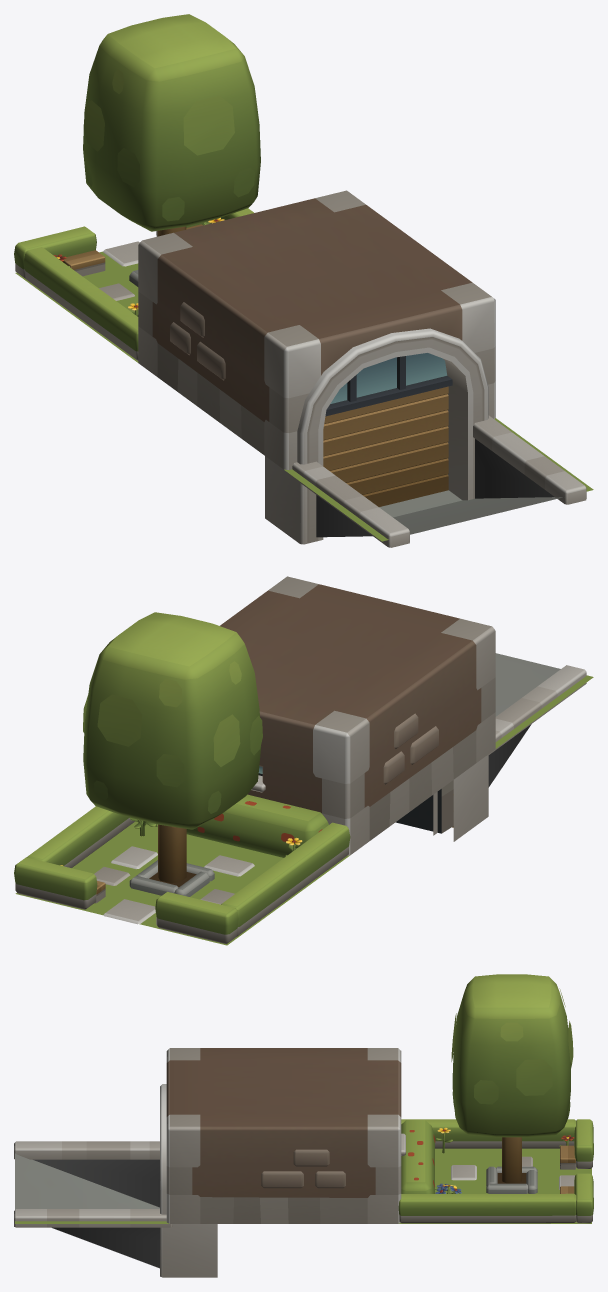
The model's file is garage_ground_beige.fbx.
3 views of the same model, one above another, from view 1: azimuth 30°, elevation 25°; view 2: azimuth 150°, elevation 25°; view 3: azimuth 270°, elevation 25° (orthographic). The views are drawn at different scales.
Parts seen in each view (by area): view 1: garage_ground_beige, door_garage; view 2: garage_ground_beige; view 3: garage_ground_beige.
Part boxes in pixels (x1=…): garage_ground_beige: x1=14, y1=14, x2=593, y2=547; door_garage: x1=323, y1=386, x2=448, y2=506; garage_ground_beige: x1=14, y1=576, x2=593, y2=945; garage_ground_beige: x1=14, y1=974, x2=593, y2=1277.
Bounding box in the file's own units: 619 × 874 × 1809.
